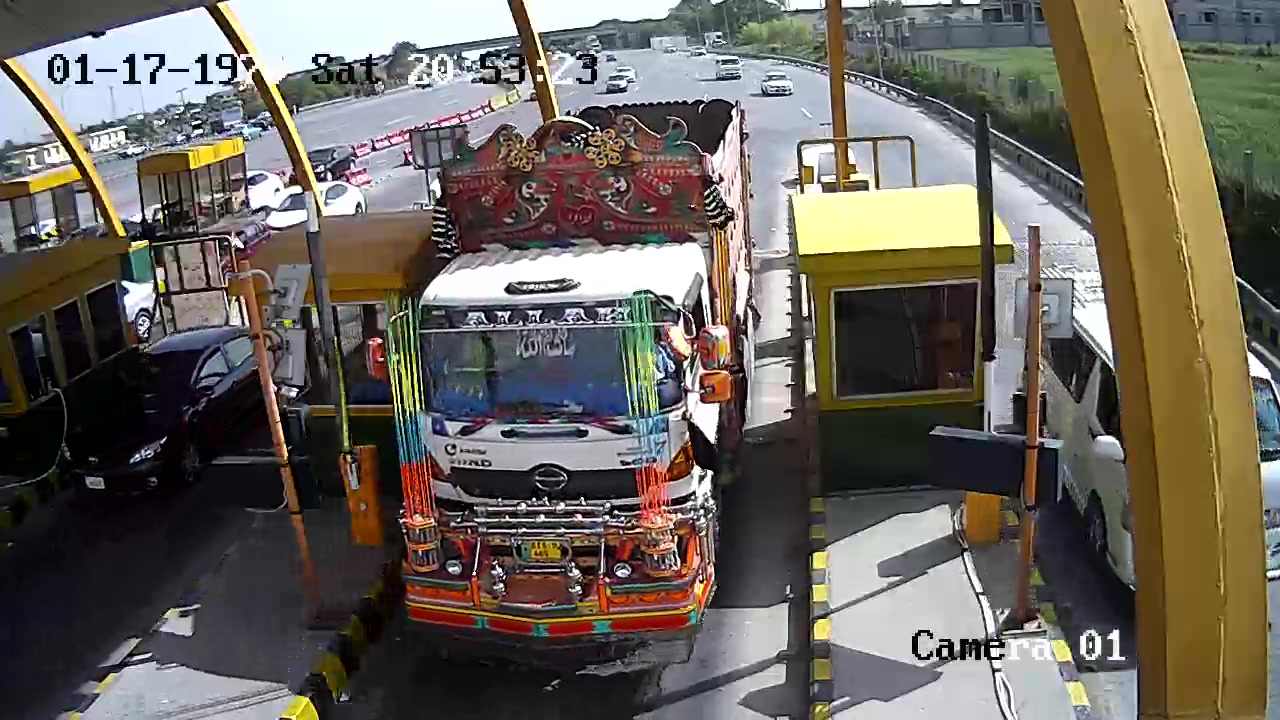F5: (388, 95, 755, 646)
